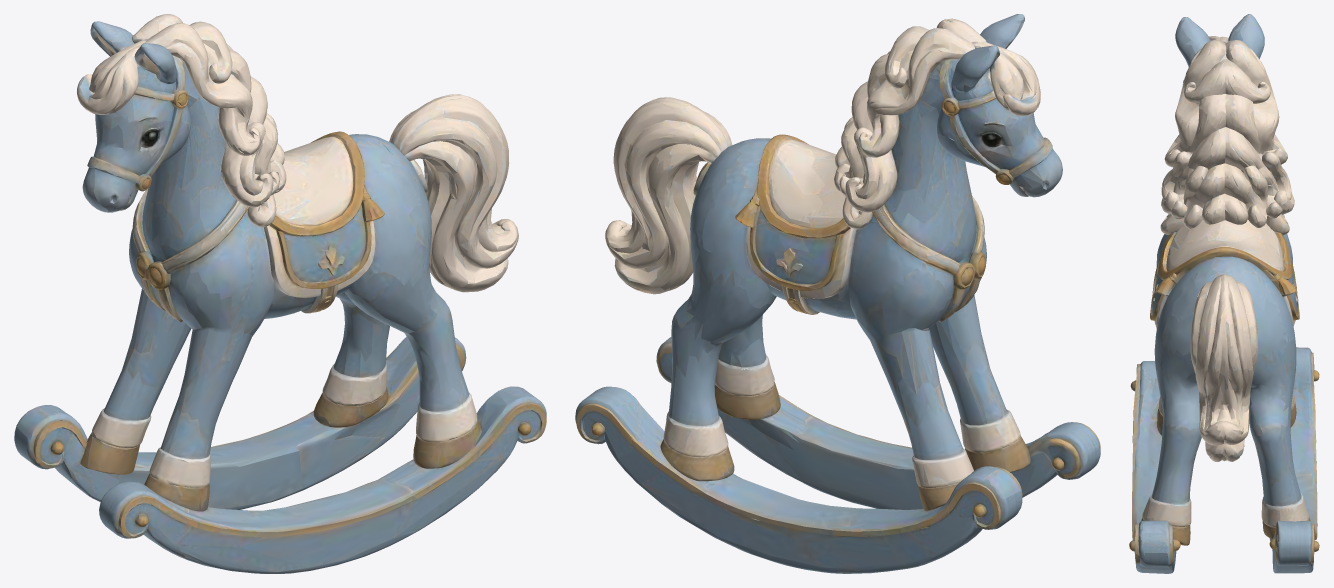
3 renders of one model, left to right at view 1: azimuth 30°, elevation 25°; view 2: azimuth 150°, elevation 25°; view 3: azimuth 270°, elevation 25°, orthographic. The views are drawn at different scales.
Visible parts, largest first — view 1: output_unwrapped; view 2: output_unwrapped; view 3: output_unwrapped.
Boxes of the visible parts, x1,y1,x2,y2 form: output_unwrapped: [14, 14, 546, 573]; output_unwrapped: [575, 14, 1100, 573]; output_unwrapped: [1129, 14, 1319, 573].
Bounding box in the file's own units: 1.66 × 1.9 × 0.7089.
Materials: 1 (1 with a texture image).
